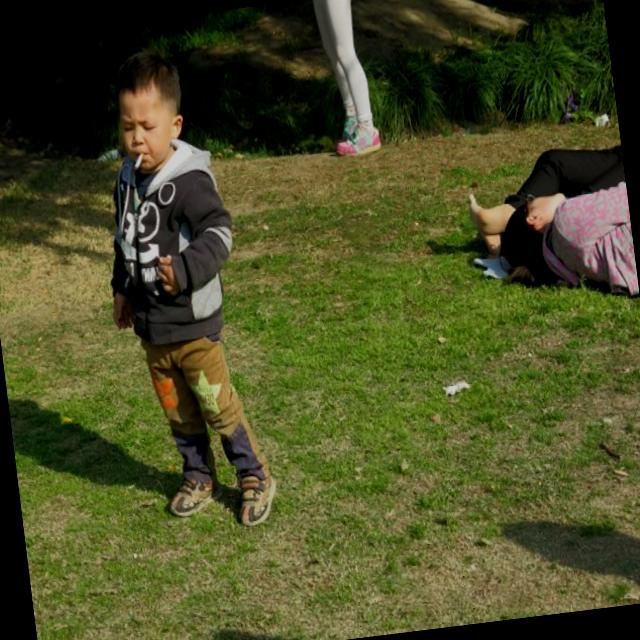smoke: (132, 152, 146, 170)
